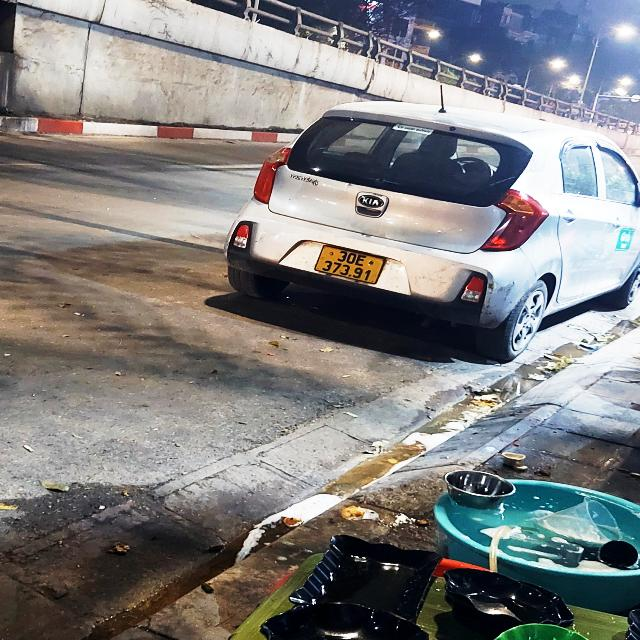license_plate: (315, 247, 386, 286)
